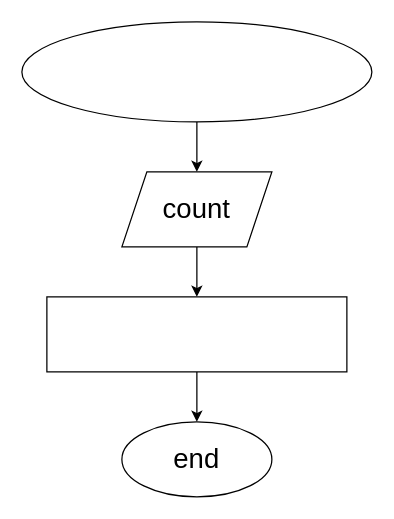
The diagram is 394 pixels wide and 519 high, and some of its shapes have lost their labels. The centre of each missing label's shape, as x and y in pixels:
array[count]: [196,334]
start CreateArray: [196,71]
